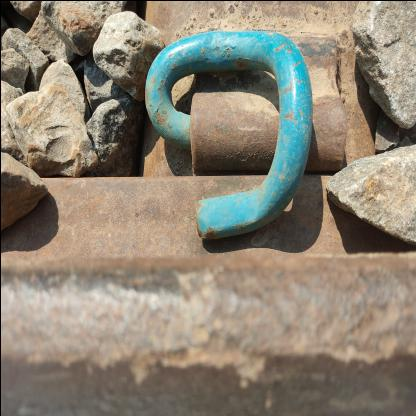Non Defective 1: (56, 116, 318, 390)
